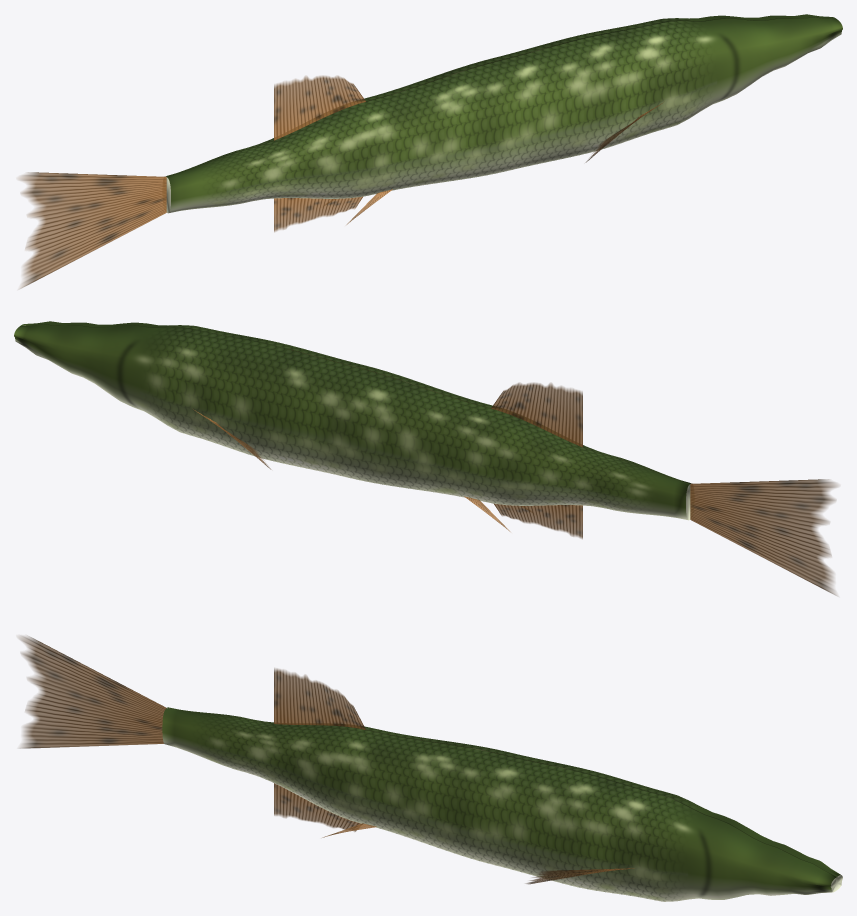
Rendered from chortan.glb.
The picture shows the model from 3 angles, top to bottom: view 1: azimuth 30°, elevation 25°; view 2: azimuth 150°, elevation 25°; view 3: azimuth 330°, elevation 25°; orthographic projection.
Parts seen in each view (by area): view 1: chortan; view 2: chortan; view 3: chortan.
Boxes of the visible parts, box(x1,y1,x2,y2) form: chortan: box(18, 14, 842, 288); chortan: box(14, 321, 838, 595); chortan: box(18, 636, 842, 901).
Bounding box in the file's own units: 0.8842 × 0.1598 × 0.1133.
1 material, 1 textured.
